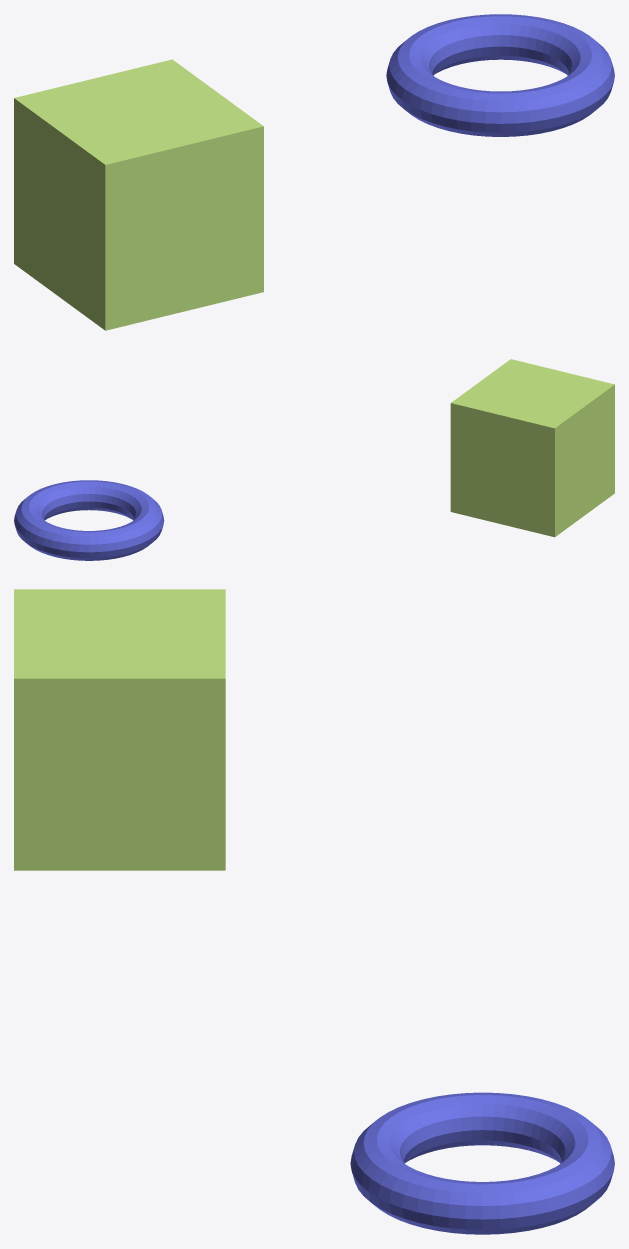
The model's file is hello.glb.
The picture shows the model from 3 angles, top to bottom: view 1: azimuth 30°, elevation 25°; view 2: azimuth 150°, elevation 25°; view 3: azimuth 270°, elevation 25°; orthographic projection. The views are drawn at different scales.
Visible parts, largest first — view 1: Cube, Torus; view 2: Cube, Torus; view 3: Cube, Torus.
Boxes of the visible parts, x1,y1,x2,y2 form: Cube: [14, 59, 263, 330]; Torus: [386, 14, 614, 136]; Cube: [450, 359, 614, 537]; Torus: [14, 480, 164, 560]; Cube: [14, 589, 225, 870]; Torus: [350, 1092, 614, 1234].
Bounding box in the file's own units: 8.8 × 2.72 × 5.68.
